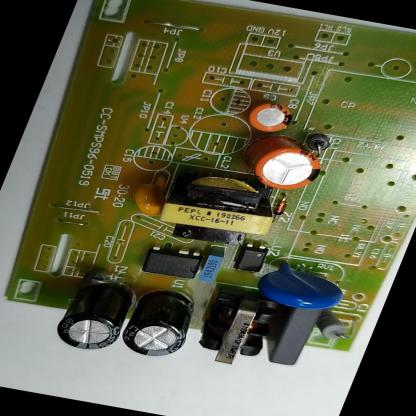Cap1: (235, 130, 332, 194)
Cap2: (245, 99, 297, 135)
Cap3: (115, 284, 206, 364)
Cap4: (51, 275, 142, 355)
MOSFET: (140, 245, 206, 281)
Mov: (249, 256, 354, 314)
Resistor: (312, 309, 358, 344)
Transformer: (151, 165, 289, 252), (190, 285, 286, 371)
